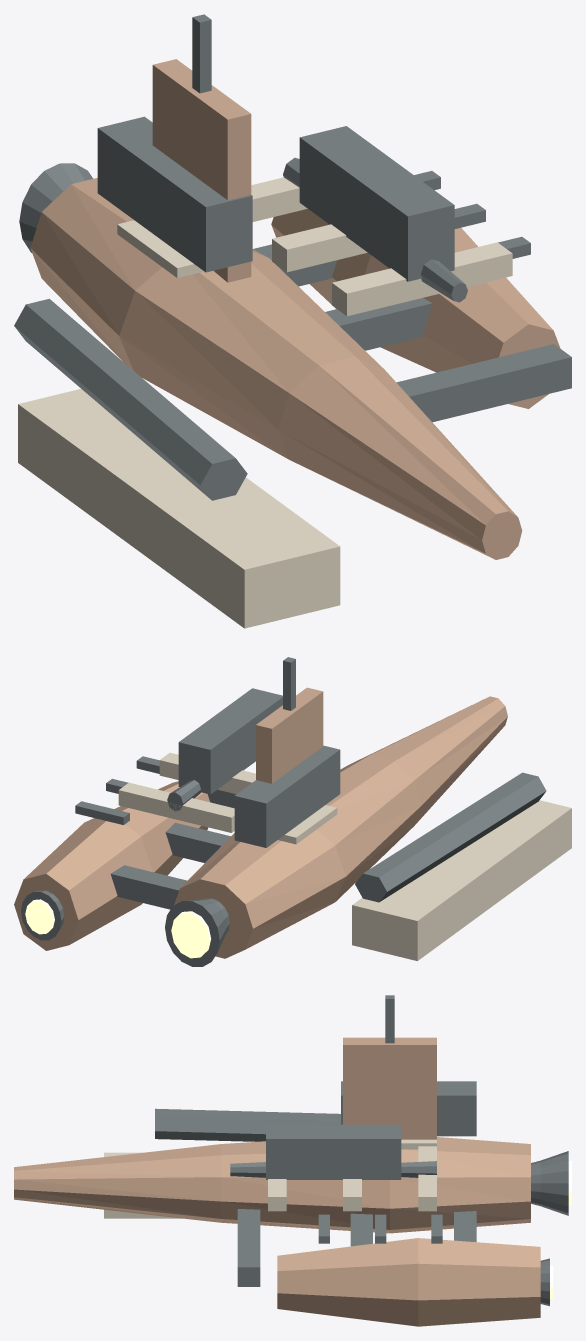
3 renders of one model, top to bottom at view 1: azimuth 30°, elevation 25°; view 2: azimuth 150°, elevation 25°; view 3: azimuth 270°, elevation 25°, orthographic. The views are drawn at different scales.
Size of the model in its own units: 6.21 by 5.03 by 9.88.
